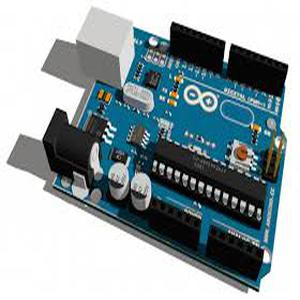duino: (45, 4, 292, 299)
